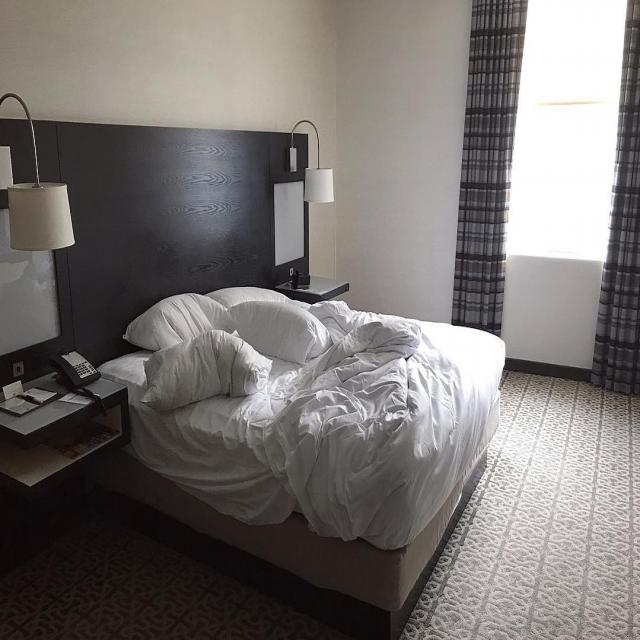bed: (104, 242, 478, 550)
